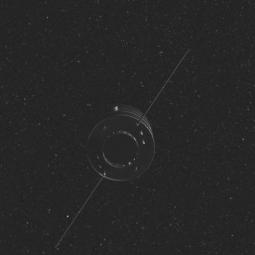double_start: (80, 88, 169, 185)
